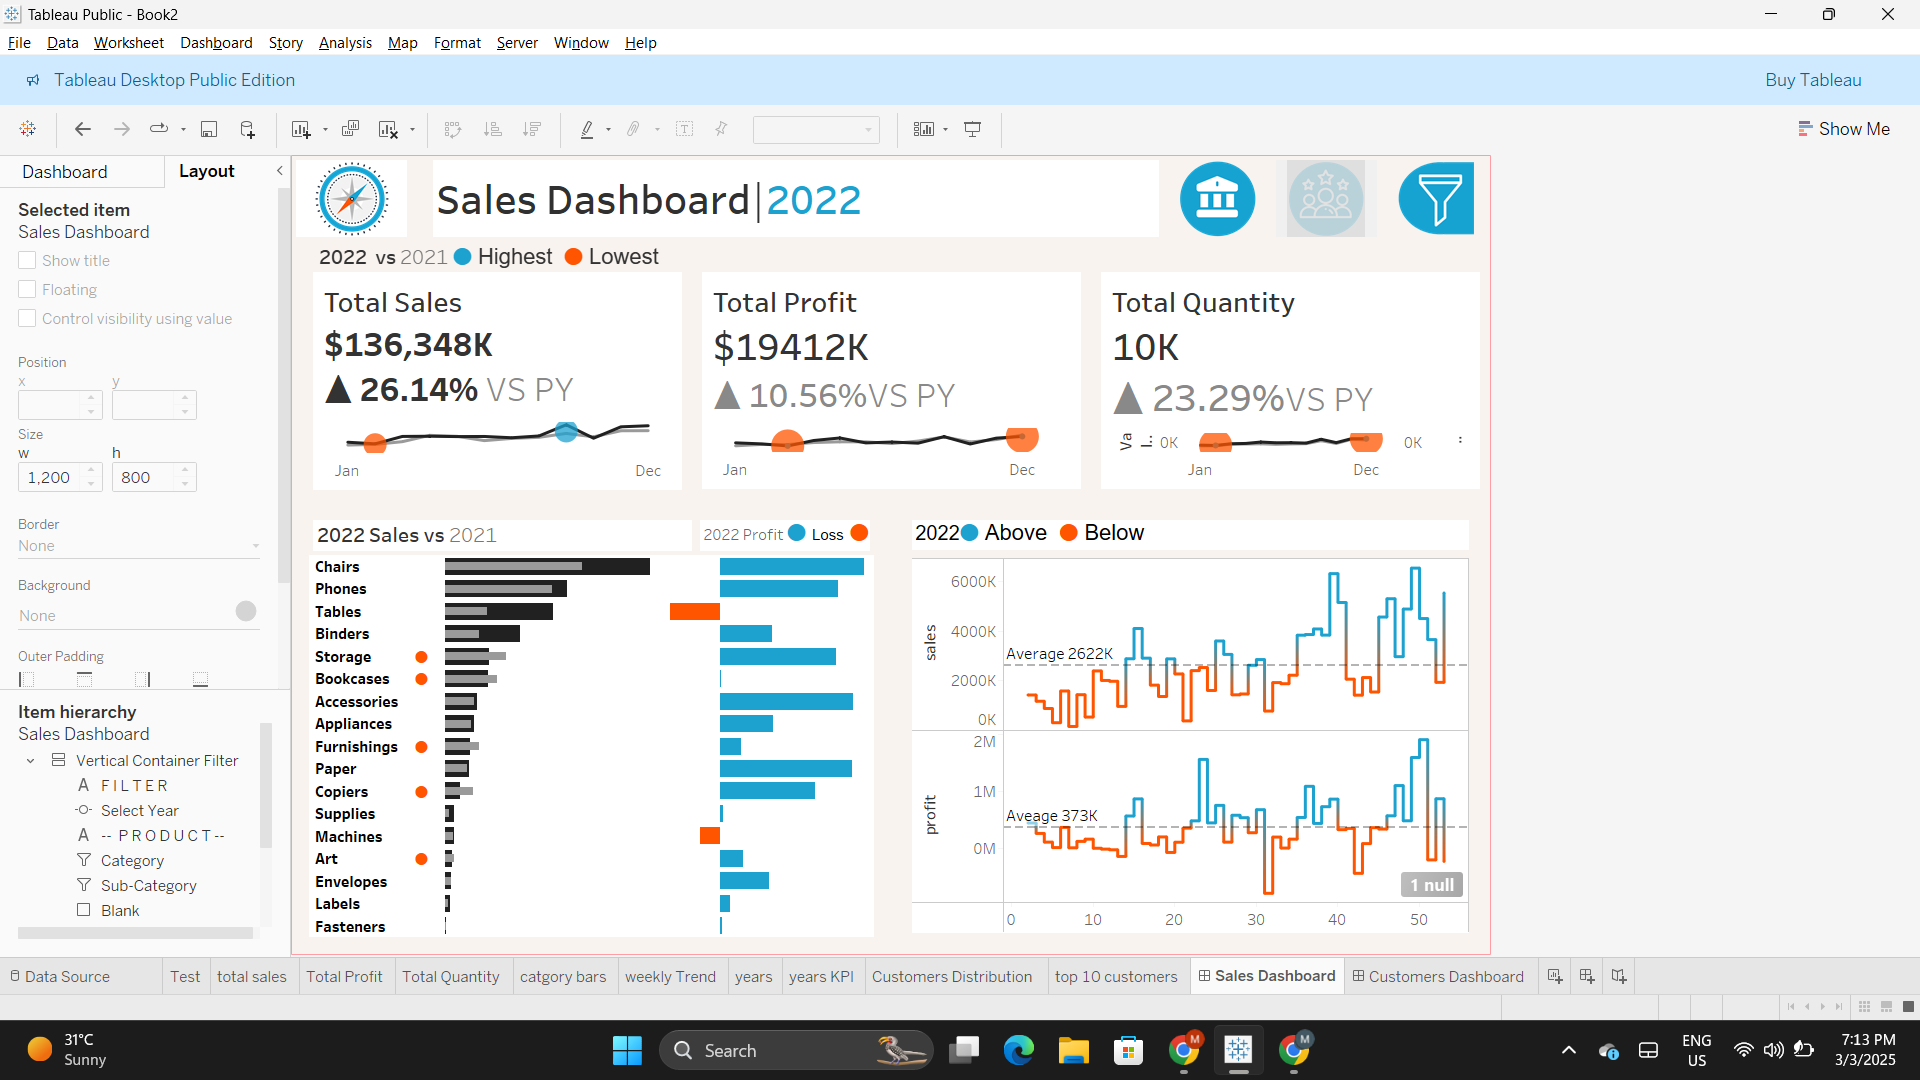

The page's visual inventory and layout, read from the dashboard file:
{"tool":"tableau","page":{"name":"Sales Dashboard","canvas":[1200,800],"ordinal":1},"visuals":[{"type":"image","param":"C:/Users/MUHAMMAD SUBHAN KHAN/Desktop/EVERYTHING IN IT/Data analyst portfolio pr","box":[1,1,119,85]},{"type":"text","box":[120,1,752,85]},{"type":"dashboard-object","box":[872,1,109,85]},{"type":"dashboard-object","box":[981,1,109,85]},{"type":"dashboard-object","box":[1090,1,109,85]},{"type":"text","box":[1064,10,132.8,43]},{"type":"parameter","param":"[Parameters].[Parameter 1]","box":[1064,53,132.8,56]},{"type":"worksheet","title":"years KPI","mark":"Automatic","box":[1,86,1198,31]},{"type":"worksheet","title":"total sales","mark":"Line","rows":["Calculation_800796361229828096"],"cols":["Order Date"],"box":[1,117,400,227]},{"type":"worksheet","title":"Total Profit","mark":"Line","rows":[" min/max sales (copy)_1274237272314970120"],"cols":["Order Date"],"box":[401,117,399,227]},{"type":"worksheet","title":"Total Quantity","mark":"Line","rows":[" min/max profit (copy)_1274237272317726731"],"cols":["Order Date"],"box":[800,117,399,227]},{"type":"text","box":[1064,214,132.8,33]},{"type":"filter","title":"Total Profit","param":"[federated.0j4fdbl0g0gvoc102kc3h1rg28l4].[none:Category:nk]","box":[1064,247,132.8,61]},{"type":"filter","title":"Total Profit","param":"[federated.0j4fdbl0g0gvoc102kc3h1rg28l4].[none:Sub-Category:nk]","box":[1064,308,132.8,61]},{"type":"worksheet","title":"years","mark":"Automatic","box":[18,361,387,39]},{"type":"text","box":[405,361,178,39]},{"type":"text","box":[617,361,565,38]},{"type":"blank","box":[1064,369,132.8,74]},{"type":"worksheet","title":"weekly Trend","mark":"Automatic","rows":["PY sales (copy)_690739645171339265","CY sales (copy)_1274237272274038784"],"cols":["Order Date"],"box":[617,399,565,383]},{"type":"worksheet","title":"catgory bars","mark":"Bar","rows":["Sub-Category","Calculation_1274237272276041729"],"cols":["PY sales (copy)_690739645171339265","Calculation_690739645170663424","CY sales (copy)_1274237272274038784"],"box":[18,400,565,381.9]},{"type":"text","box":[1064,443,132.8,64]},{"type":"filter","title":"Total Profit","param":"[federated.0j4fdbl0g0gvoc102kc3h1rg28l4].[none:State:nk]","box":[1064,507,132.8,61]},{"type":"filter","title":"Total Profit","param":"[federated.0j4fdbl0g0gvoc102kc3h1rg28l4].[none:Region:nk]","box":[1064,568,132.8,61]},{"type":"filter","title":"Total Profit","param":"[federated.0j4fdbl0g0gvoc102kc3h1rg28l4].[none:City:nk]","box":[1064,629,132.8,61]}]}

Visuals, with their boxes on the page's 1200x800 design canvas (x1, y1, x2, y2). These are canvas units, not pixel positions in the 1920x1080 screenshot, which may show the page scaled, cropped or inside an application window:
image: BBox(1, 1, 120, 86)
text: BBox(120, 1, 872, 86)
dashboard-object: BBox(872, 1, 981, 86)
dashboard-object: BBox(981, 1, 1090, 86)
dashboard-object: BBox(1090, 1, 1199, 86)
text: BBox(1064, 10, 1197, 53)
parameter: BBox(1064, 53, 1197, 109)
"years KPI" worksheet: BBox(1, 86, 1199, 117)
"total sales" worksheet (Line marks): BBox(1, 117, 401, 344)
"Total Profit" worksheet (Line marks): BBox(401, 117, 800, 344)
"Total Quantity" worksheet (Line marks): BBox(800, 117, 1199, 344)
text: BBox(1064, 214, 1197, 247)
"Total Profit" filter: BBox(1064, 247, 1197, 308)
"Total Profit" filter: BBox(1064, 308, 1197, 369)
"years" worksheet: BBox(18, 361, 405, 400)
text: BBox(405, 361, 583, 400)
text: BBox(617, 361, 1182, 399)
blank: BBox(1064, 369, 1197, 443)
"weekly Trend" worksheet: BBox(617, 399, 1182, 782)
"catgory bars" worksheet (Bar marks): BBox(18, 400, 583, 782)
text: BBox(1064, 443, 1197, 507)
"Total Profit" filter: BBox(1064, 507, 1197, 568)
"Total Profit" filter: BBox(1064, 568, 1197, 629)
"Total Profit" filter: BBox(1064, 629, 1197, 690)
